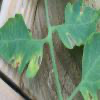Tomato leaf bacterial spot: (1, 7, 45, 81), (56, 1, 99, 55)
